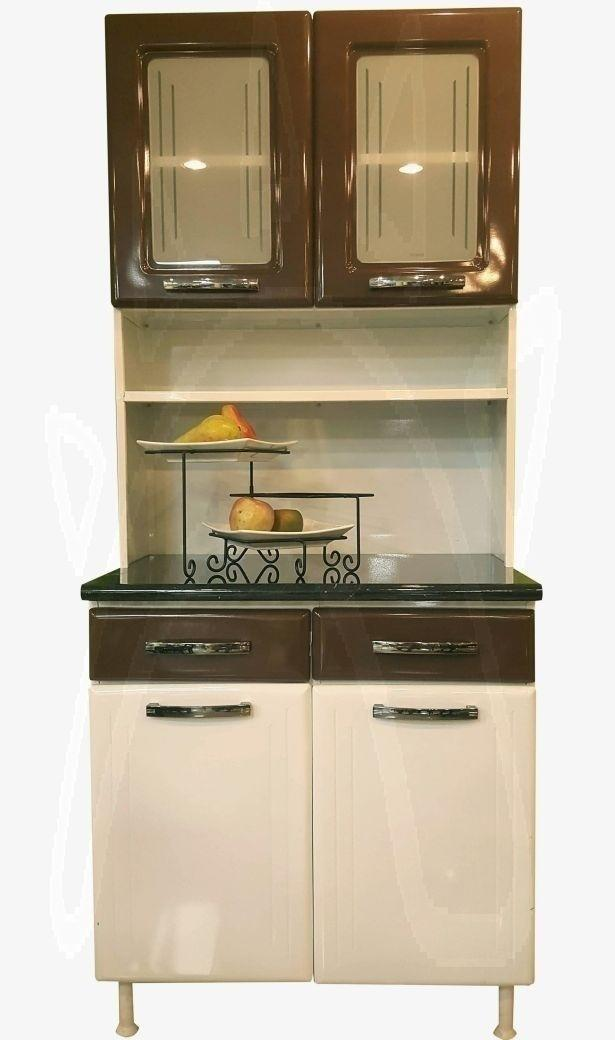cabinet_door: (92, 683, 306, 979), (106, 10, 317, 306), (318, 696, 533, 986), (318, 16, 517, 306), (314, 615, 530, 689), (91, 614, 307, 687)
handle: (356, 630, 488, 669), (142, 691, 255, 734), (367, 693, 481, 731), (356, 264, 477, 299), (130, 632, 253, 664), (150, 270, 269, 301)
